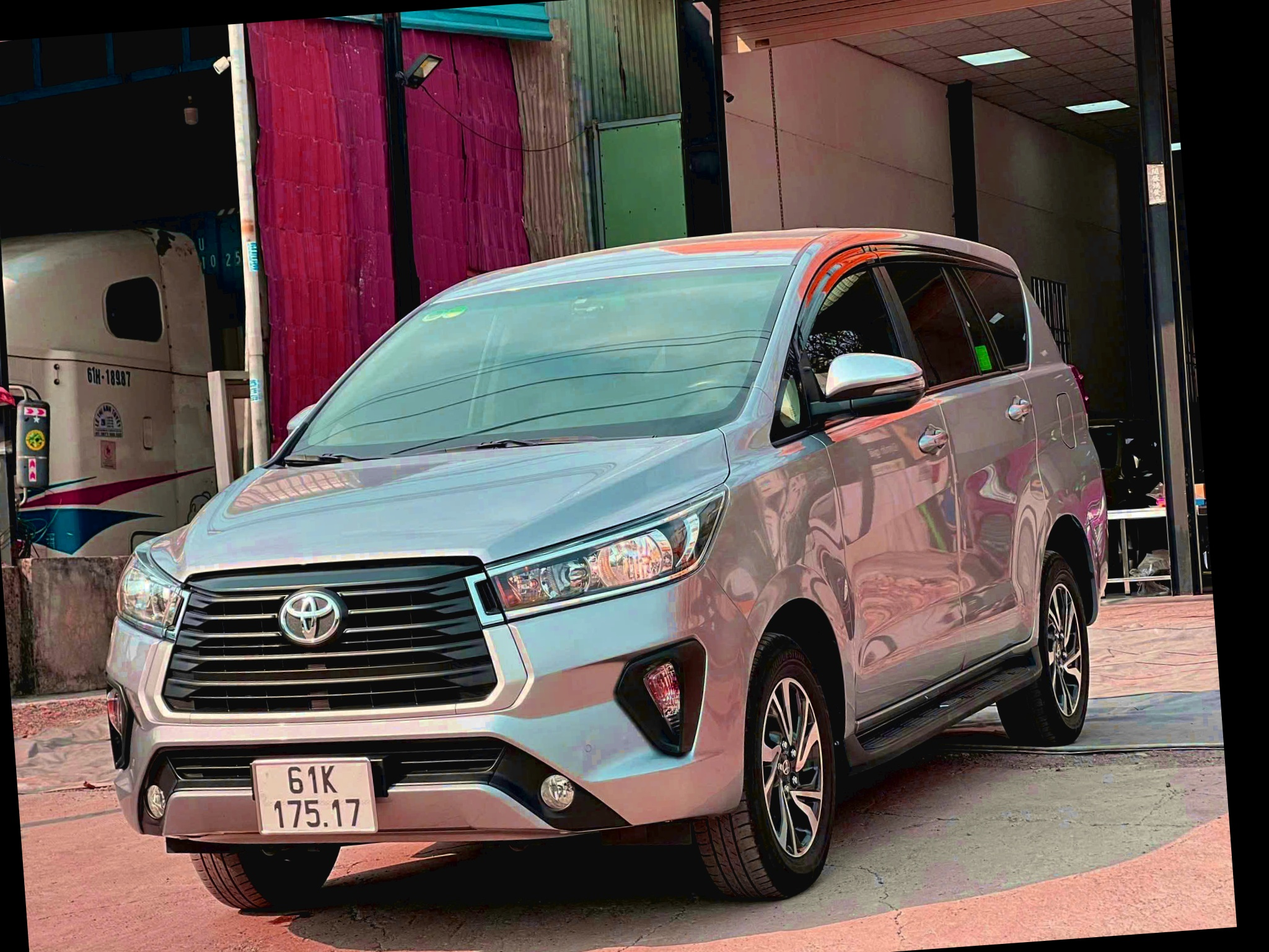Bien-so: (224, 757, 371, 850)
